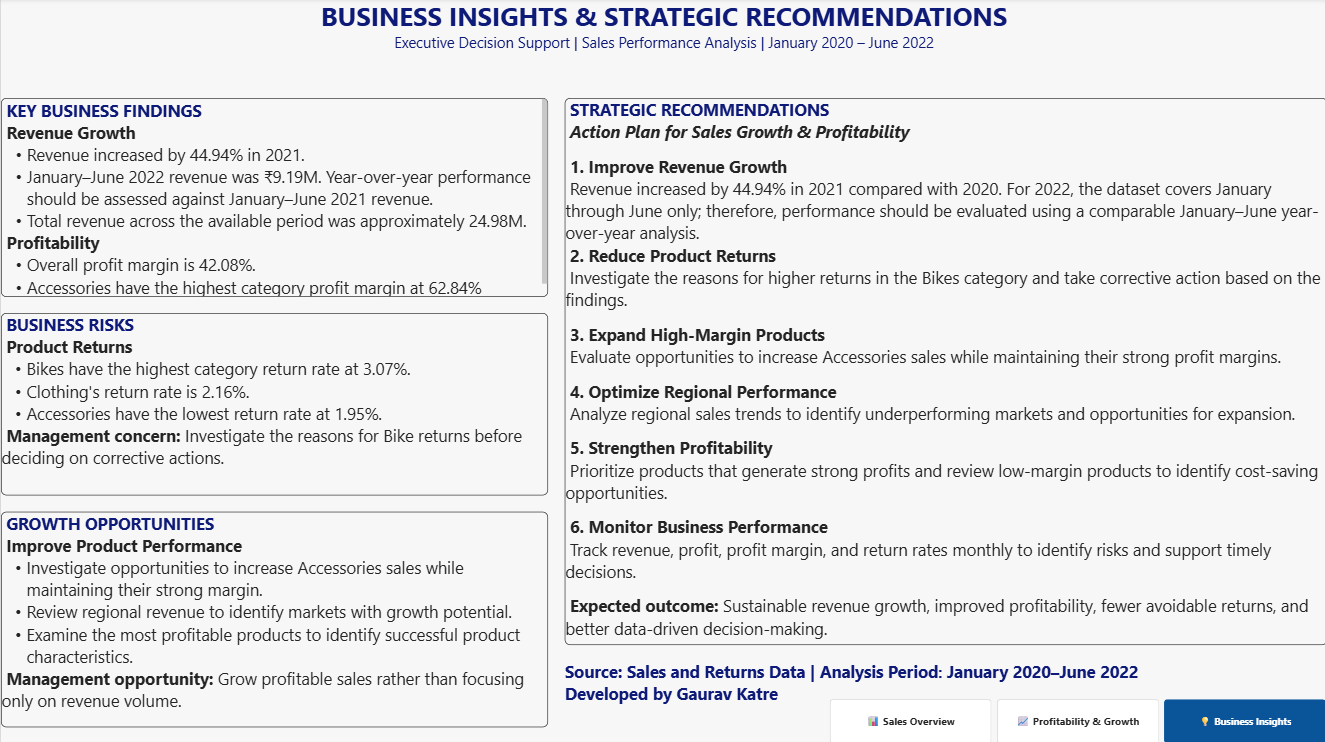

This screenshot's page, from the dashboard's own definition file:
{"tool":"powerbi","page":{"name":"💡 Business Insights","canvas":[1920,1080],"ordinal":2},"visuals":[{"type":"textbox","box":[0,0,1920,96],"z":0},{"type":"textbox","box":[0,144,792,288],"z":1000},{"type":"textbox","box":[0,456,792,264],"z":2000},{"type":"textbox","box":[0,744,792,312],"z":3000},{"type":"textbox","box":[816,144,1104,792],"z":4000},{"type":"textbox","box":[816,960,864,96],"z":5000},{"type":"pageNavigator","box":[1200,1016,720,64],"z":6000}]}

Visuals, with their boxes in screenshot pixels (x1, y1, x2, y2), scaled from the page's 1920x1080 canvas onto the 1325x742 screenshot:
textbox: rect(0, 0, 1324, 66)
textbox: rect(0, 99, 547, 297)
textbox: rect(0, 313, 547, 495)
textbox: rect(0, 511, 547, 726)
textbox: rect(563, 99, 1324, 643)
textbox: rect(563, 660, 1159, 726)
pageNavigator: rect(828, 698, 1324, 741)
